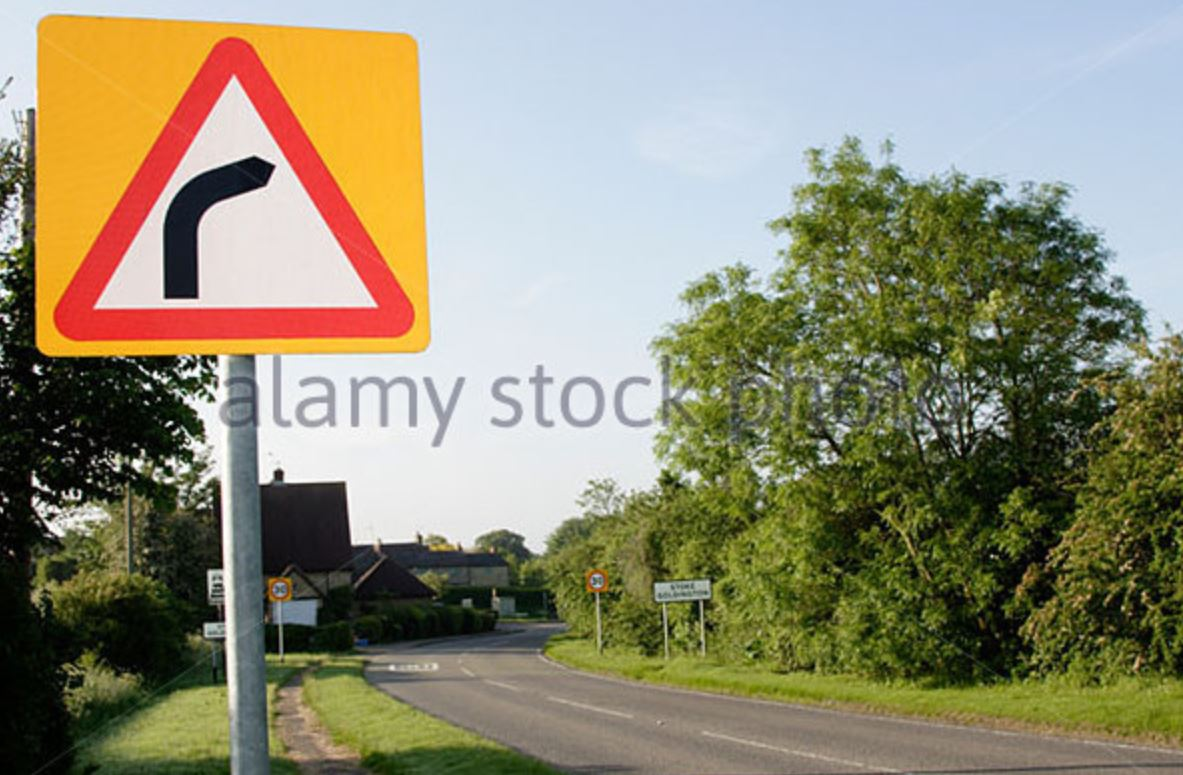Bend_to_right: (51, 35, 418, 348)
